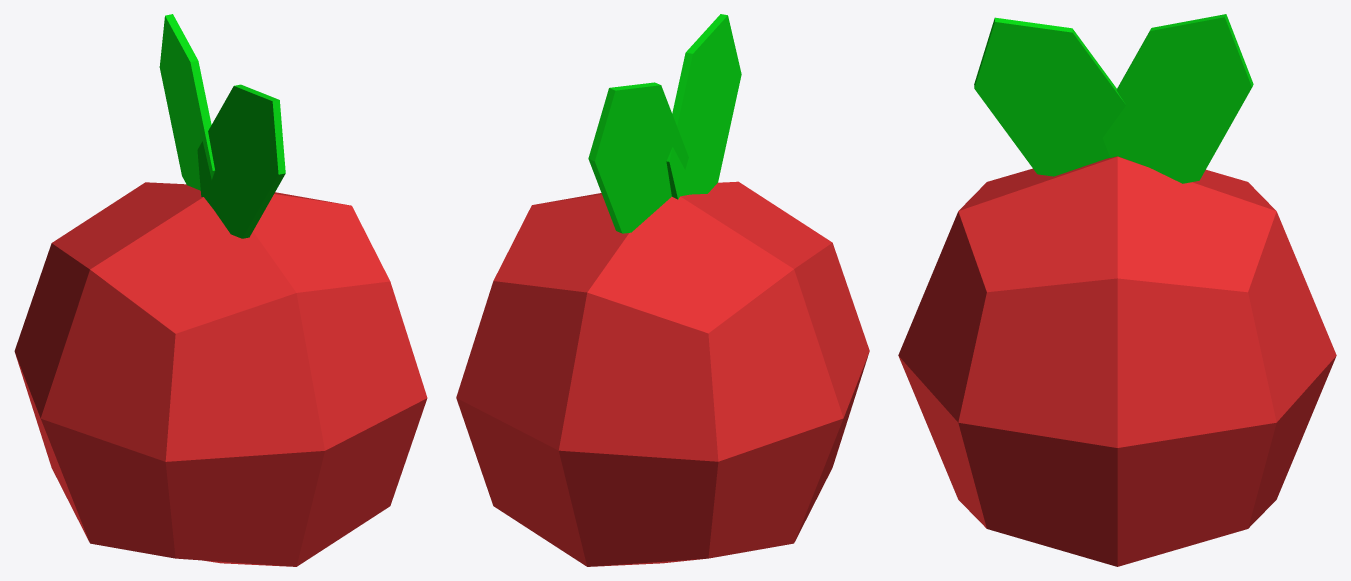
Rendered from apple.fbx.
3 renders of one model, left to right at view 1: azimuth 30°, elevation 25°; view 2: azimuth 150°, elevation 25°; view 3: azimuth 270°, elevation 25°, orthographic. The views are drawn at different scales.
Visible parts, largest first — view 1: _apple; view 2: _apple; view 3: _apple.
Part boxes in pixels (<box>): _apple: <box>14,14,427,566</box>; _apple: <box>456,14,869,566</box>; _apple: <box>898,14,1336,566</box>.
Bounding box in the file's own units: 57.82 × 78.33 × 57.82.
